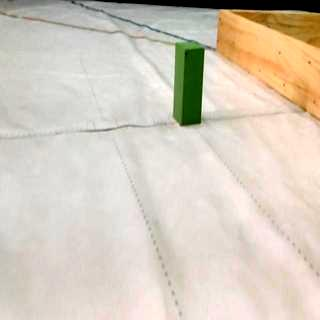greenbox: (174, 40, 204, 126)
